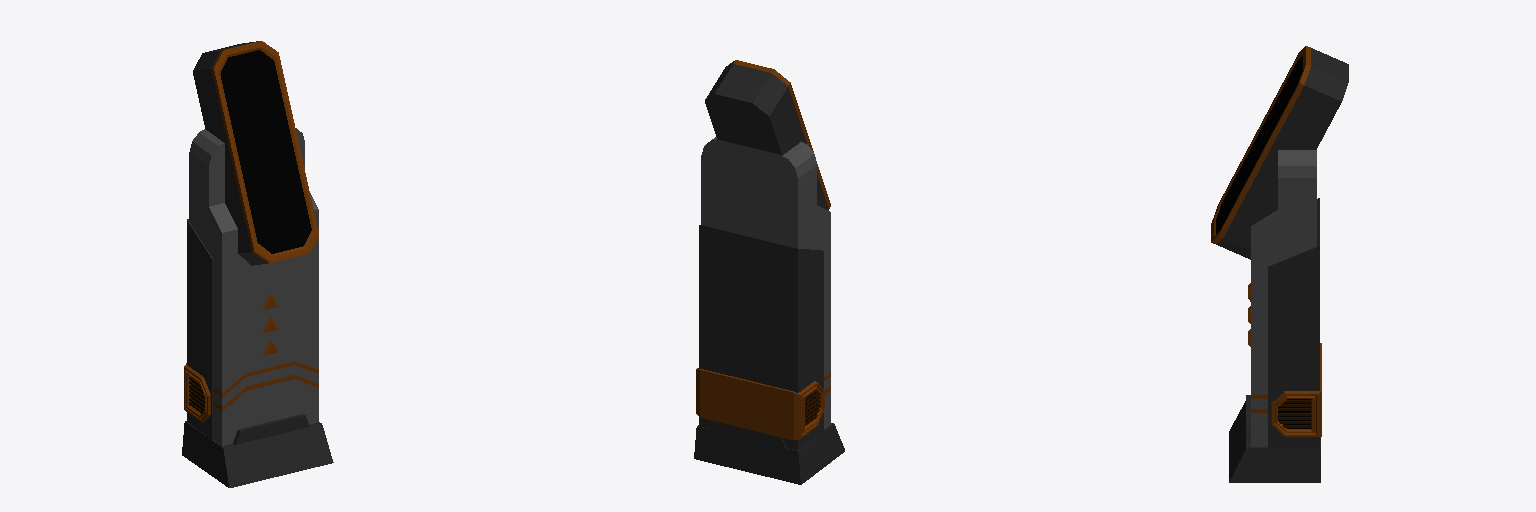
Rendered from Props_Computer.obj.
3 views of the same model, side by side, from view 1: azimuth 30°, elevation 25°; view 2: azimuth 150°, elevation 25°; view 3: azimuth 270°, elevation 25° (orthographic).
Parts seen in each view (by area): view 1: Props_Computer_Cube.028; view 2: Props_Computer_Cube.028; view 3: Props_Computer_Cube.028.
Part boxes in pixels (left/top/right/bottom): Props_Computer_Cube.028: left=182, top=41, right=333, bottom=487; Props_Computer_Cube.028: left=694, top=60, right=844, bottom=484; Props_Computer_Cube.028: left=1211, top=46, right=1348, bottom=482.
Bounding box in the file's own units: 0.5804 × 2.08 × 0.6441.